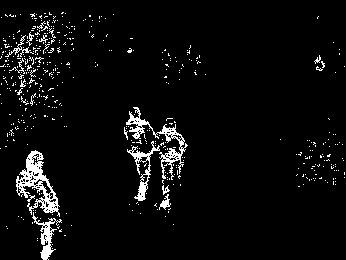person: (14, 149, 64, 259), (154, 115, 189, 213), (122, 107, 154, 203)
